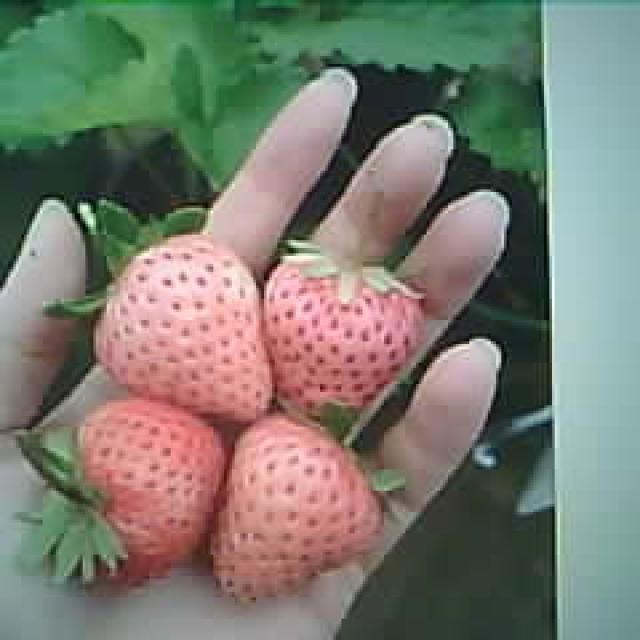Healthy Fruit: (93, 239, 274, 421), (265, 253, 421, 428), (215, 422, 380, 586), (82, 401, 225, 571)
